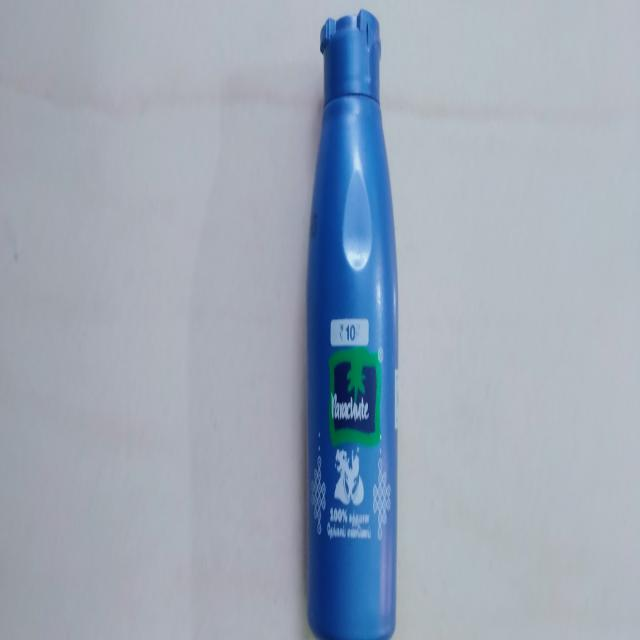oil: (302, 0, 406, 640)
